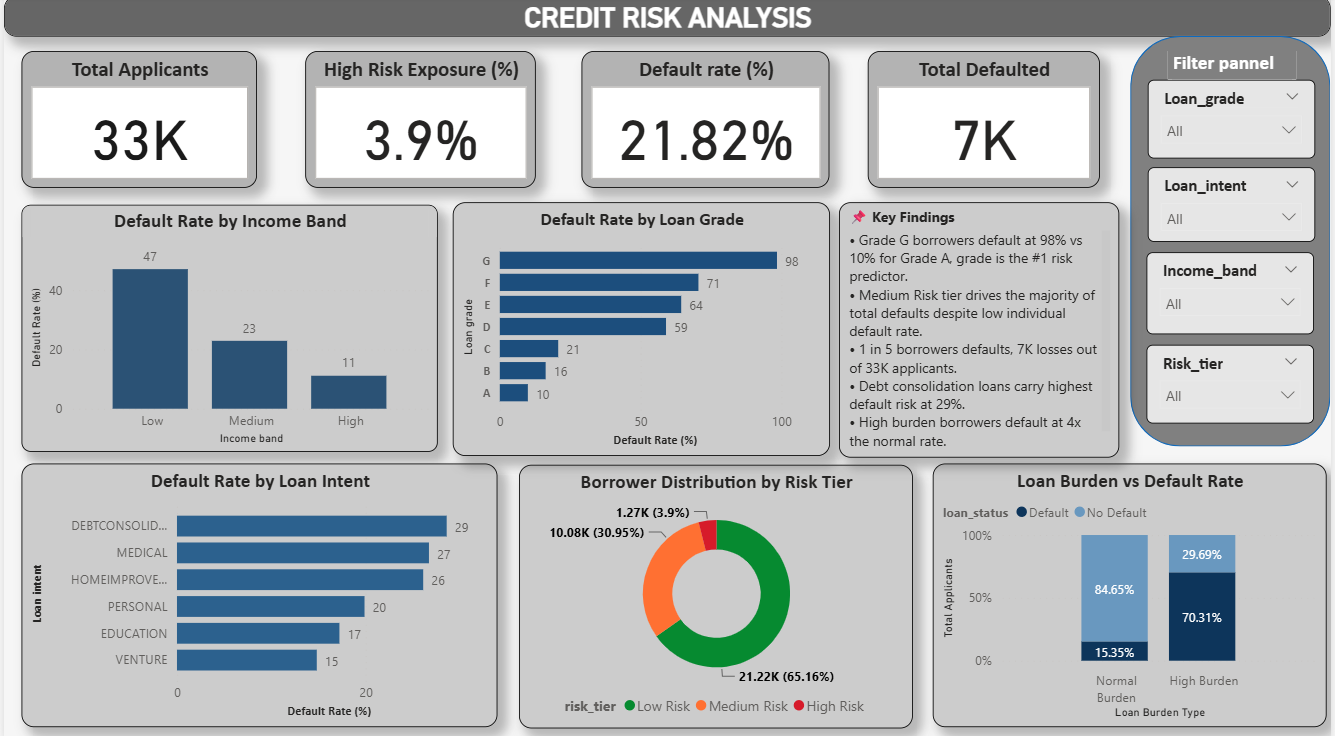

The page's visual inventory and layout, read from the dashboard file:
{"tool":"powerbi","page":{"name":"Page 1","canvas":[1280,720],"ordinal":0},"visuals":[{"type":"textbox","title":"CREDIT RISK ANALYSIS","box":[0,0,1279.9,39.1],"z":0},{"type":"cardVisual","title":"High Risk Exposure (%)","fields":{"Data":["credit_risk_cleaned.High Risk %"]},"box":[290.9,52.6,222.5,132],"z":1000},{"type":"cardVisual","title":"Total Applicants","fields":{"Data":["credit_risk_cleaned.Total Applicants"]},"box":[17.1,52.6,227.4,132],"z":2000},{"type":"cardVisual","title":"Default rate (%)","fields":{"Data":["credit_risk_cleaned.Default Rate"]},"box":[557.4,52.6,239.6,132],"z":3000},{"type":"cardVisual","title":"Total Defaulted","fields":{"Data":["credit_risk_cleaned.Total Defaults"]},"box":[833.7,52.6,223.7,132],"z":4000},{"type":"donutChart","title":"Borrower Distribution by Risk Tier","fields":{"Category":["credit_risk_cleaned.risk_tier"],"Y":["CountNonNull(credit_risk_cleaned.person_age)"]},"box":[496.9,452.3,379.9,254.5],"z":5000},{"type":"clusteredColumnChart","title":"Default Rate by Income Band","fields":{"Category":["credit_risk_cleaned.income_band"],"Y":["credit_risk_cleaned.Default Rate Numeric"]},"box":[16.9,201.4,401.6,238.8],"z":6000},{"type":"clusteredBarChart","title":"Default Rate by Loan Intent","fields":{"Category":["credit_risk_cleaned.loan_intent"],"Y":["credit_risk_cleaned.Default Rate Numeric"]},"box":[16.9,451.1,459.5,254.5],"z":7000},{"type":"hundredPercentStackedColumnChart","title":"Loan Burden vs Default Rate","fields":{"Category":["credit_risk_cleaned.high_loan_burden"],"Y":["credit_risk_cleaned.Total Applicants"],"Series":["credit_risk_cleaned.loan_status_label"]},"box":[896.1,451.1,379.9,254.5],"z":8000},{"type":"shape","box":[1086.7,39.1,193.1,396.1],"z":9000},{"type":"textbox","title":"Filter pannel","box":[1122.8,53.1,124.2,27.7],"z":10000},{"type":"slicer","fields":{"Values":["credit_risk_cleaned.loan_grade"]},"box":[1103.8,80.7,161.4,75.8],"z":11000},{"type":"slicer","fields":{"Values":["credit_risk_cleaned.loan_intent"]},"box":[1103.8,165,161.4,72.1],"z":12000},{"type":"slicer","fields":{"Values":["credit_risk_cleaned.income_band"]},"box":[1102.6,246.9,161.4,79.5],"z":13000},{"type":"slicer","fields":{"Values":["credit_risk_cleaned.risk_tier"]},"box":[1102.6,336.2,161.4,75.8],"z":14000},{"type":"clusteredBarChart","title":"Default Rate by Loan Grade","fields":{"Category":["credit_risk_cleaned.loan_grade"],"Y":["credit_risk_cleaned.Default Rate Numeric"]},"box":[433,199,364.2,244.8],"z":15000},{"type":"textbox","title":"📌 Key Findings ","box":[805.6,199,270.2,246],"z":15001}]}

Visuals, with their boxes in screenshot pixels (x1, y1, x2, y2), scaled from the page's 1280x720 canvas onto the 1335x736 screenshot:
"CREDIT RISK ANALYSIS" textbox: region(0, 0, 1334, 40)
"High Risk Exposure (%)" cardVisual: region(303, 54, 535, 189)
"Total Applicants" cardVisual: region(18, 54, 255, 189)
"Default rate (%)" cardVisual: region(581, 54, 831, 189)
"Total Defaulted" cardVisual: region(870, 54, 1103, 189)
"Borrower Distribution by Risk Tier" donutChart: region(518, 462, 914, 723)
"Default Rate by Income Band" clusteredColumnChart: region(18, 206, 436, 450)
"Default Rate by Loan Intent" clusteredBarChart: region(18, 461, 497, 721)
"Loan Burden vs Default Rate" hundredPercentStackedColumnChart: region(935, 461, 1331, 721)
shape: region(1133, 40, 1334, 445)
"Filter pannel" textbox: region(1171, 54, 1301, 83)
slicer - credit_risk_cleaned.loan_grade: region(1151, 82, 1320, 160)
slicer - credit_risk_cleaned.loan_intent: region(1151, 169, 1320, 242)
slicer - credit_risk_cleaned.income_band: region(1150, 252, 1318, 334)
slicer - credit_risk_cleaned.risk_tier: region(1150, 344, 1318, 421)
"Default Rate by Loan Grade" clusteredBarChart: region(452, 203, 831, 454)
"📌 Key Findings " textbox: region(840, 203, 1122, 455)
